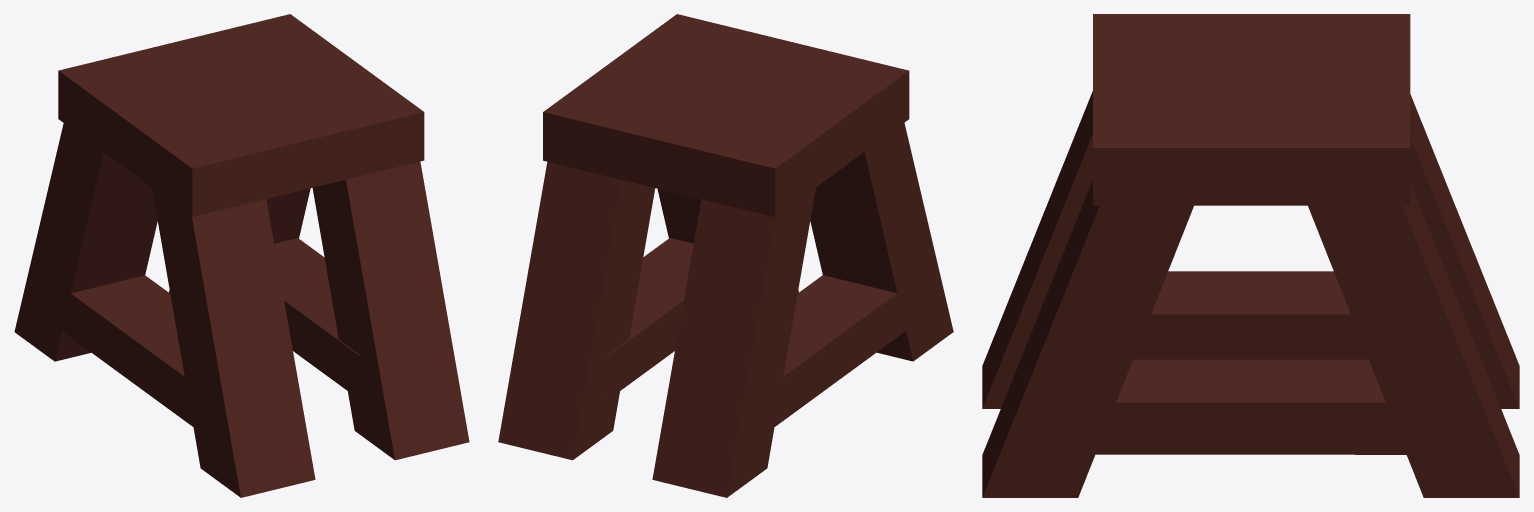
The model's file is stool_4.FBX.
3 views of the same model, side by side, from view 1: azimuth 30°, elevation 25°; view 2: azimuth 150°, elevation 25°; view 3: azimuth 270°, elevation 25° (orthographic). The views are drawn at different scales.
Parts seen in each view (by area): view 1: stool_4; view 2: stool_4; view 3: stool_4.
Boxes of the visible parts, <box> form: stool_4: <box>14,14,469,497</box>; stool_4: <box>498,14,953,497</box>; stool_4: <box>982,14,1519,497</box>.
Bounding box in the file's own units: 0.4954 × 0.6038 × 0.8385.
1 material, 1 textured.
